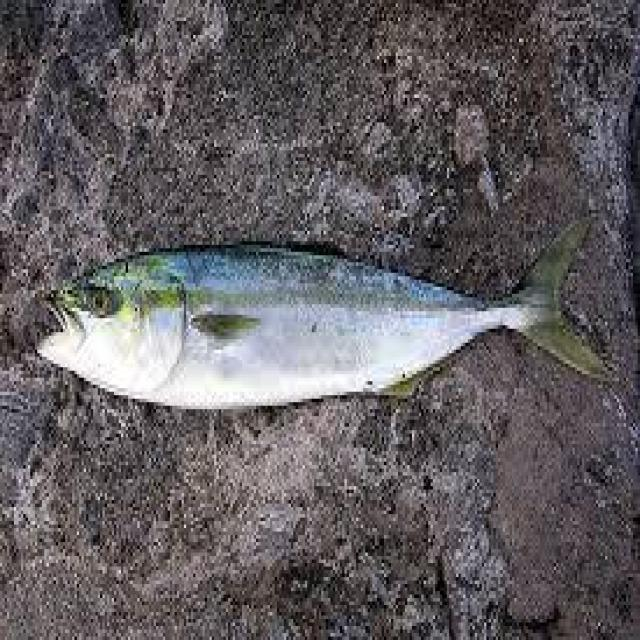Kingfish: (28, 154, 633, 458)
